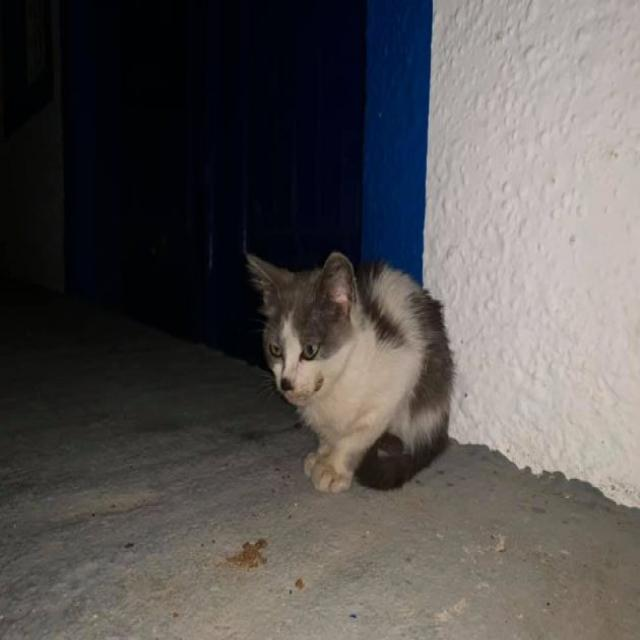cat: (247, 253, 454, 492)
